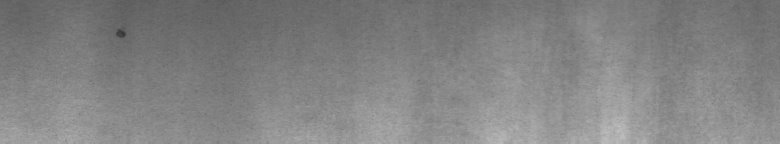fi: (115, 21, 126, 44)
